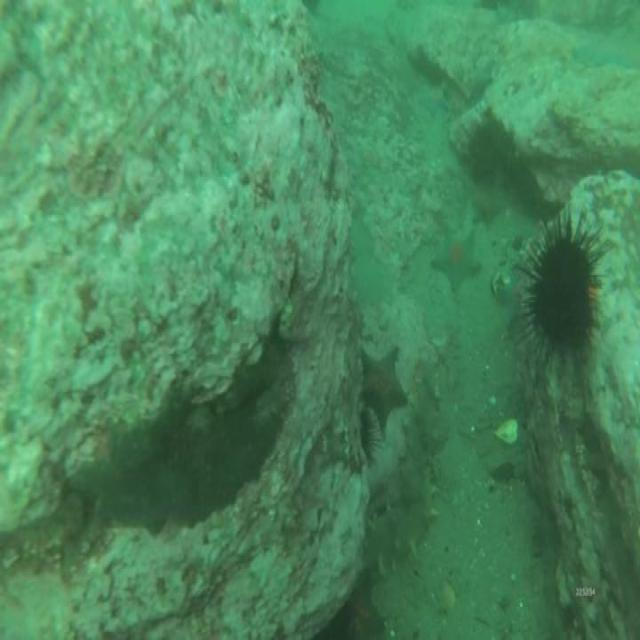echinus: (532, 223, 598, 352)
holothurian: (364, 499, 434, 572)
scallop: (498, 414, 518, 447)
starfish: (363, 348, 408, 425), (436, 223, 481, 291), (506, 275, 525, 329)
